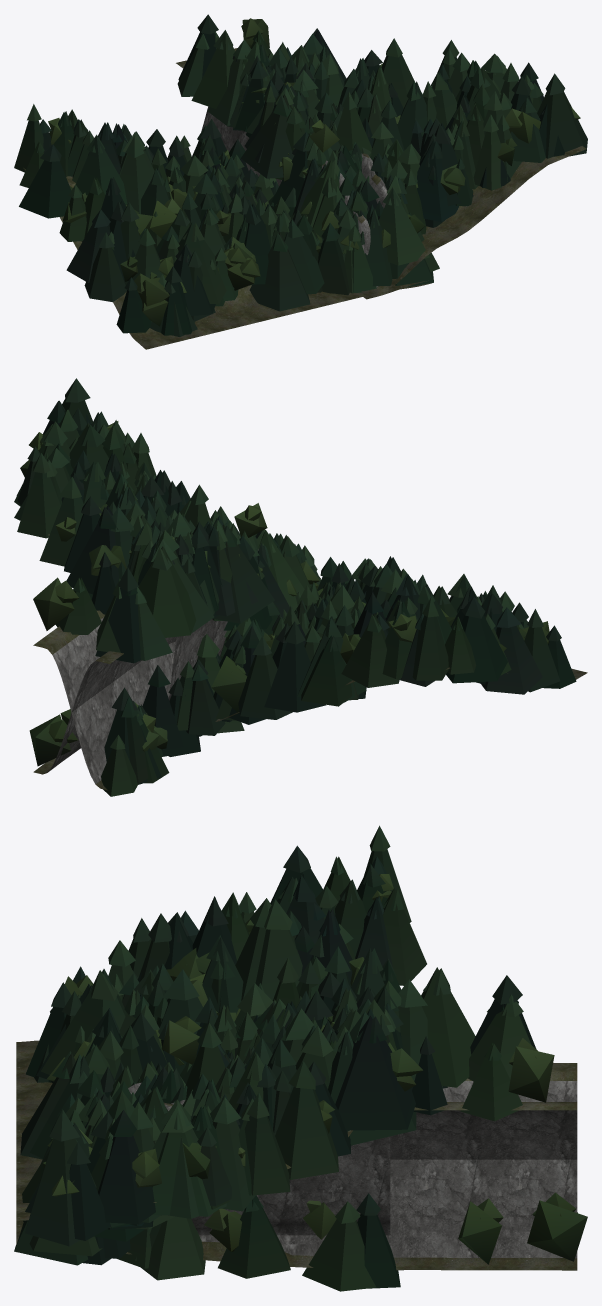
Rendered from bk_forest_summer.glb.
3 views of the same model, one above another, from view 1: azimuth 30°, elevation 25°; view 2: azimuth 150°, elevation 25°; view 3: azimuth 270°, elevation 25° (orthographic). The views are drawn at different scales.
Parts seen in each view (by area): view 1: trees_corner_inner, trees_corner_outer, trees_endcap_land_to_sea, trees_straight12_b, trees_endcap_sea_to_land, corner_inner, trees_straight6, corner_outer, trees_straight12_c, trees_straight12_a, trees_straight3, endcap_sea_to_land (+1 smaller); view 2: trees_corner_inner, trees_corner_outer, trees_endcap_sea_to_land, trees_endcap_land_to_sea, endcap_sea_to_land, trees_straight12_b, endcap_land_to_sea, trees_straight6, trees_straight12_c, pass12, trees_straight3, trees_straight12_a; view 3: trees_corner_inner, trees_corner_outer, trees_endcap_land_to_sea, endcap_land_to_sea, endcap_sea_to_land, trees_endcap_sea_to_land, pass12, trees_straight12_b, trees_straight12_c, corner_inner, trees_straight12_a, trees_straight6 (+1 smaller).
Part boxes in pixels (bbox=[...]): trees_corner_inner: bbox=[14, 104, 349, 336]; trees_corner_outer: bbox=[227, 28, 587, 294]; trees_endcap_land_to_sea: bbox=[177, 14, 433, 287]; trees_straight12_b: bbox=[234, 41, 439, 271]; trees_endcap_sea_to_land: bbox=[180, 18, 372, 231]; corner_inner: bbox=[23, 168, 365, 349]; trees_straight6: bbox=[259, 44, 392, 286]; corner_outer: bbox=[362, 146, 586, 295]; trees_straight12_c: bbox=[232, 33, 404, 282]; trees_straight12_a: bbox=[233, 47, 407, 247]; trees_straight3: bbox=[244, 83, 364, 293]; endcap_sea_to_land: bbox=[198, 48, 415, 299]; trees_corner_inner: bbox=[176, 556, 576, 735]; trees_corner_outer: bbox=[14, 378, 317, 619]; trees_endcap_sea_to_land: bbox=[33, 484, 244, 796]; trees_endcap_land_to_sea: bbox=[29, 503, 267, 766]; endcap_sea_to_land: bbox=[33, 610, 175, 790]; trees_straight12_b: bbox=[89, 512, 320, 623]; endcap_land_to_sea: bbox=[33, 549, 258, 774]; trees_straight6: bbox=[147, 525, 319, 620]; trees_straight12_c: bbox=[88, 507, 311, 614]; pass12: bbox=[168, 619, 227, 700]; trees_straight3: bbox=[204, 521, 320, 630]; trees_straight12_a: bbox=[127, 510, 258, 603]; trees_corner_inner: bbox=[20, 825, 426, 1163]; trees_corner_outer: bbox=[22, 978, 415, 1246]; trees_endcap_land_to_sea: bbox=[14, 967, 587, 1291]; endcap_land_to_sea: bbox=[16, 1063, 577, 1270]; endcap_sea_to_land: bbox=[164, 1100, 577, 1159]; trees_endcap_sea_to_land: bbox=[185, 1022, 577, 1213]; pass12: bbox=[16, 1136, 390, 1244]; trees_straight12_b: bbox=[29, 980, 423, 1256]; trees_straight12_c: bbox=[23, 988, 416, 1241]; corner_inner: bbox=[16, 1040, 52, 1199]; trees_straight12_a: bbox=[128, 986, 390, 1107]; trees_straight6: bbox=[45, 986, 403, 1156].
Bounding box in the file's own units: 87.96 × 31.82 × 61.41.
3 materials, 2 textured.
